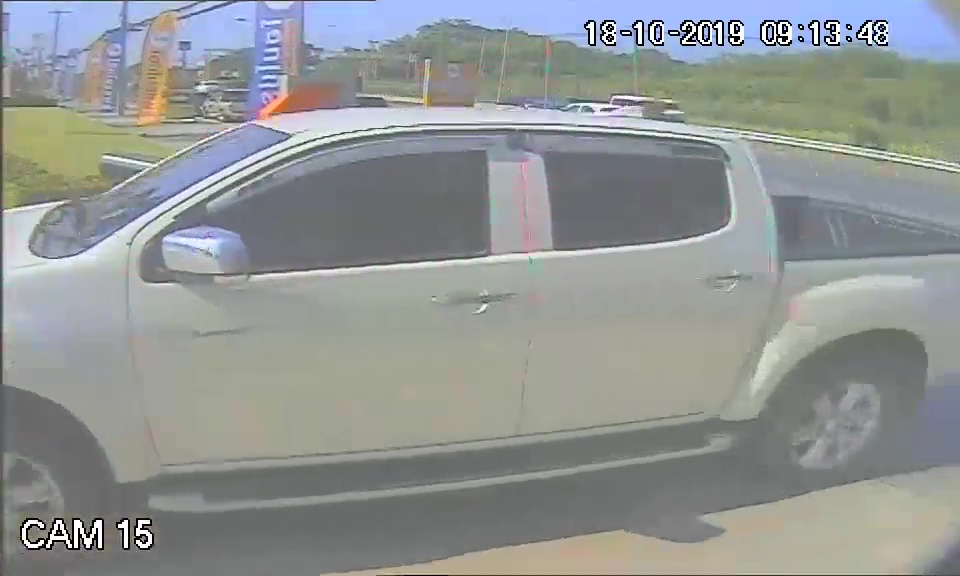pickup: (6, 102, 949, 505)
